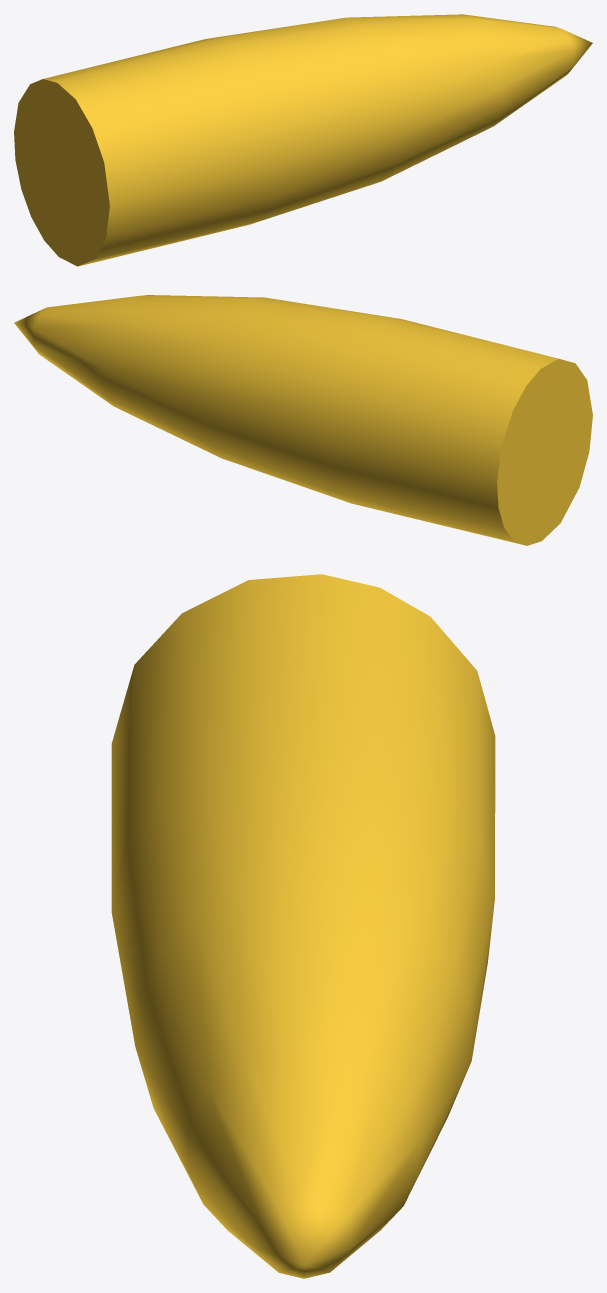
File: bala_ignitium.obj
The picture shows the model from 3 angles, top to bottom: view 1: azimuth 30°, elevation 25°; view 2: azimuth 150°, elevation 25°; view 3: azimuth 270°, elevation 25°; orthographic projection. The views are drawn at different scales.
Bounding box in the file's own units: 0.1004 × 0.0313 × 0.0314.
